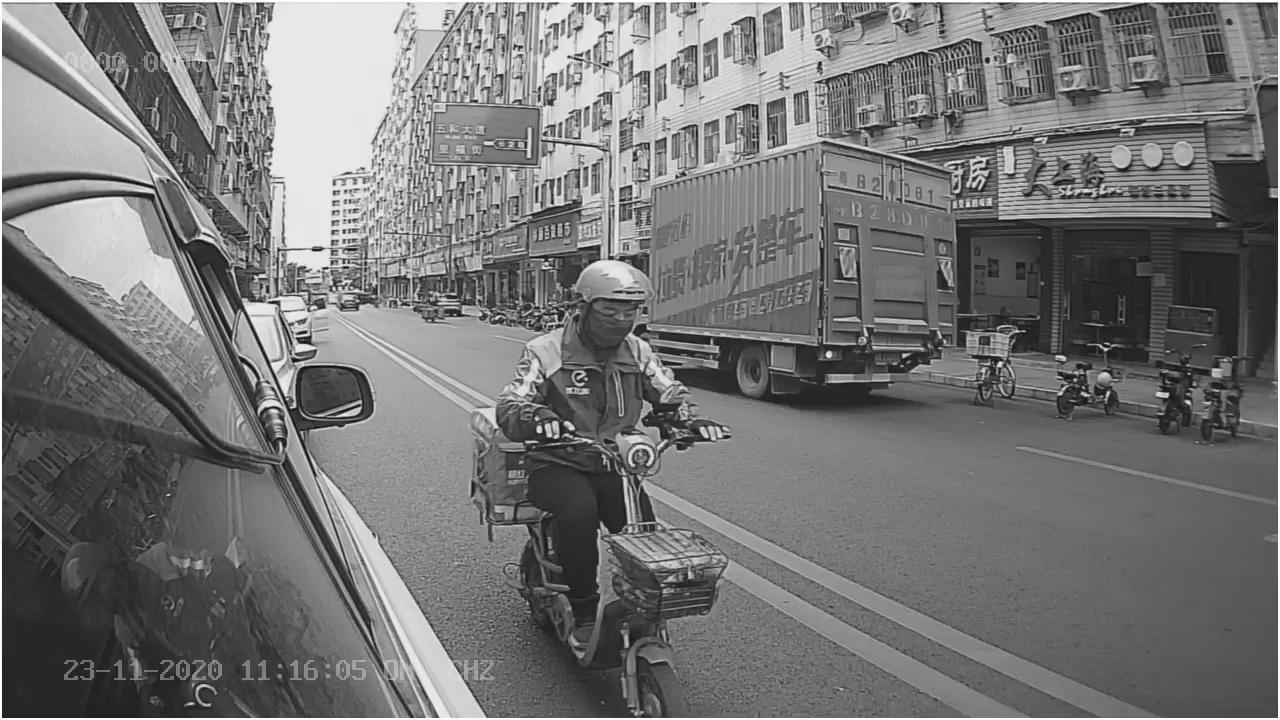person: (488, 252, 713, 420)
